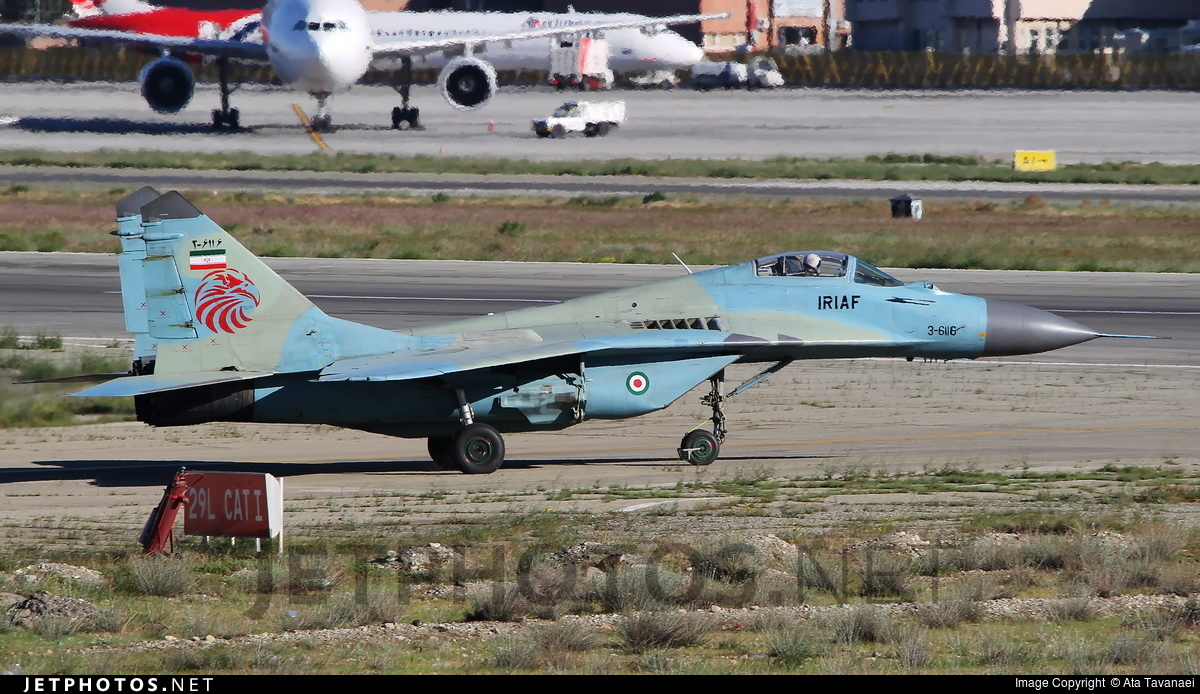Mig-29: (52, 165, 1118, 479)
